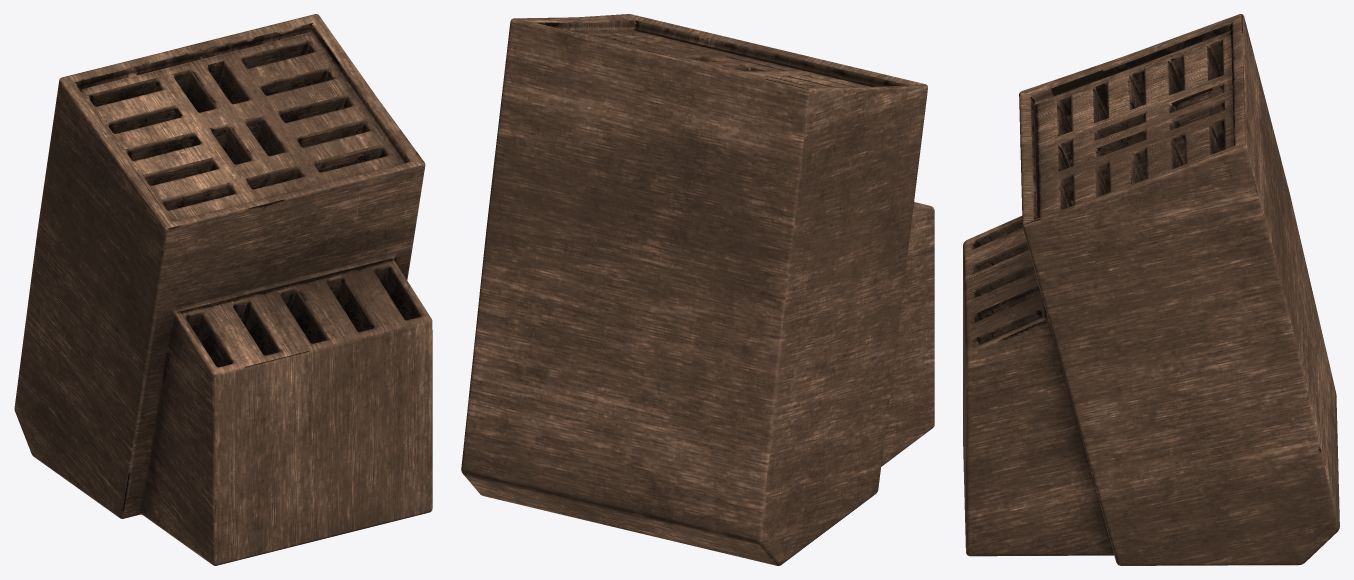
Rendered from set_couteau.fbx.
The picture shows the model from 3 angles, left to right: view 1: azimuth 30°, elevation 25°; view 2: azimuth 150°, elevation 25°; view 3: azimuth 270°, elevation 25°; orthographic projection. The views are drawn at different scales.
Parts seen in each view (by area): view 1: Set_couteau; view 2: Set_couteau; view 3: Set_couteau.
Boxes of the visible parts, x1,y1,x2,y2 form: Set_couteau: [14, 14, 432, 565]; Set_couteau: [461, 14, 934, 565]; Set_couteau: [963, 14, 1339, 565].
Bounding box in the file's own units: 11.26 × 16.19 × 13.18.
Materials: 1 (1 with a texture image).
